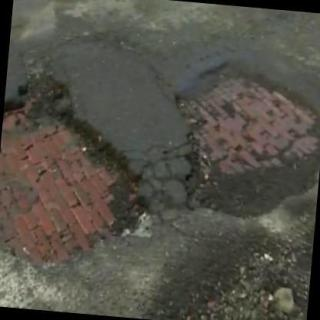pothole: (0, 73, 145, 266), (179, 79, 320, 218)
